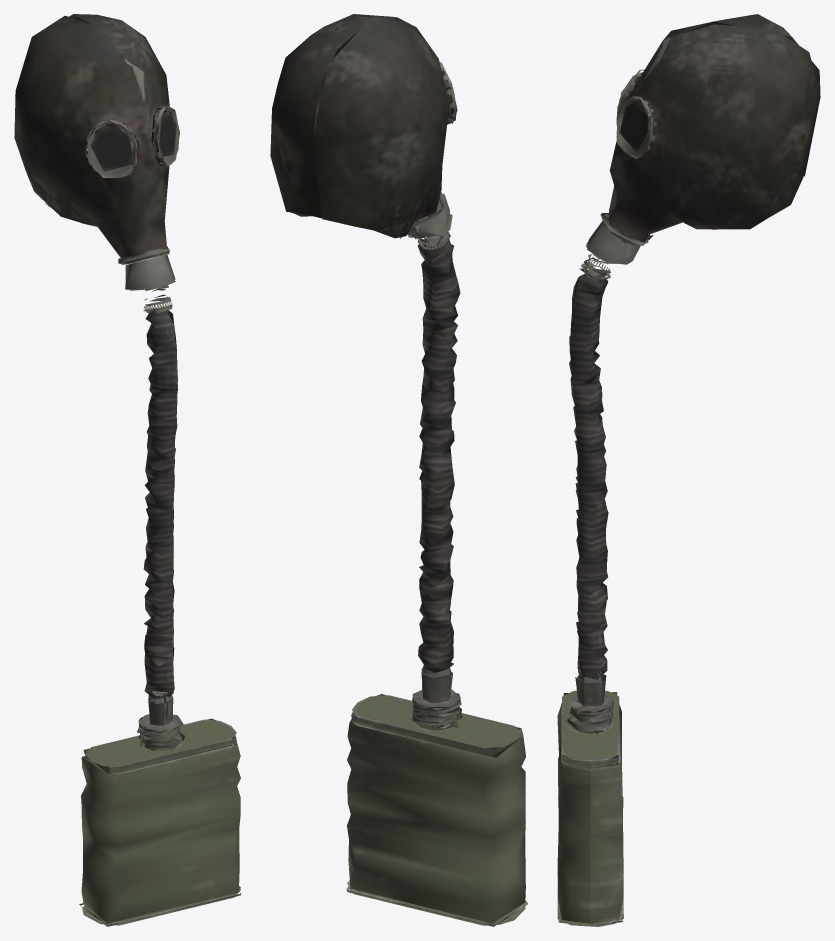
Rendered from old_gas_mask.glb.
The picture shows the model from 3 angles, left to right: view 1: azimuth 30°, elevation 25°; view 2: azimuth 150°, elevation 25°; view 3: azimuth 270°, elevation 25°; orthographic projection. The views are drawn at different scales.
Visible parts, largest first — view 1: old_gas_mask; view 2: old_gas_mask; view 3: old_gas_mask.
Part boxes in pixels (box(x1,y1,x2,y2)): old_gas_mask: box(14, 14, 241, 926); old_gas_mask: box(270, 14, 528, 926); old_gas_mask: box(557, 14, 820, 926).
Bounding box in the file's own units: 0.2105 × 1.13 × 0.3095.
Materials: 1 (1 with a texture image).
